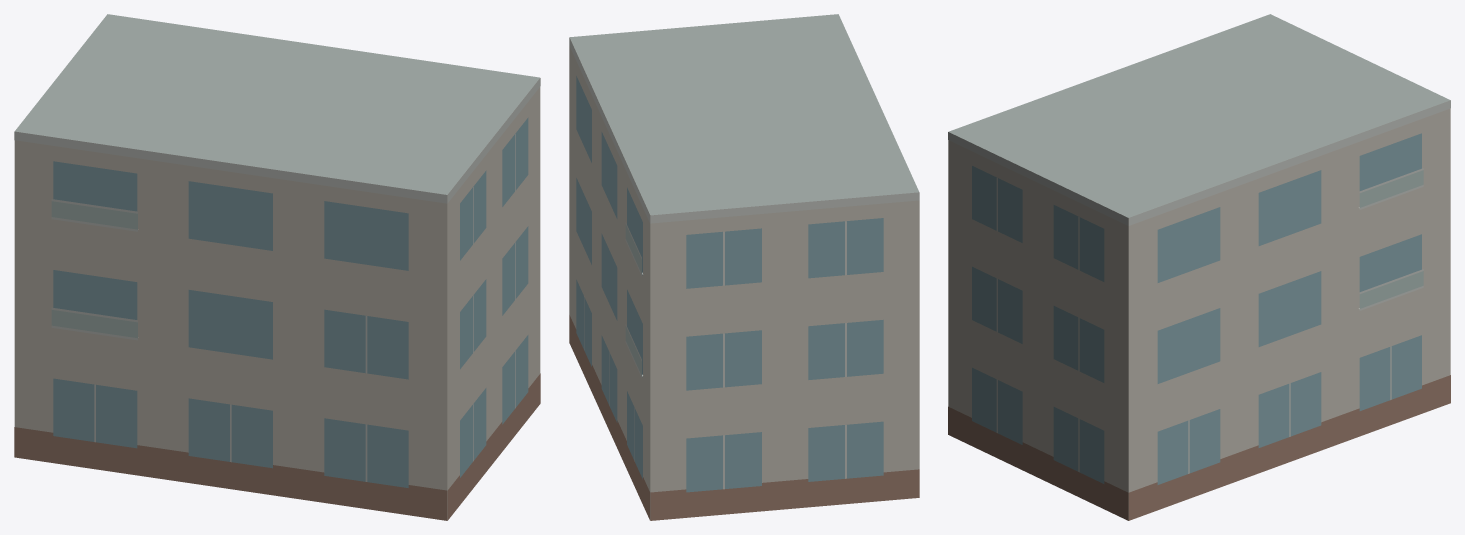
File: survey-upis-32717505.glb
3 renders of one model, left to right at view 1: azimuth 30°, elevation 25°; view 2: azimuth 150°, elevation 25°; view 3: azimuth 270°, elevation 25°, orthographic. The views are drawn at different scales.
Parts seen in each view (by area): view 1: survey-upis-32717505.tmp; view 2: survey-upis-32717505.tmp; view 3: survey-upis-32717505.tmp.
Boxes of the visible parts, x1,y1,x2,y2 form: survey-upis-32717505.tmp: (14, 14, 540, 520); survey-upis-32717505.tmp: (569, 14, 919, 520); survey-upis-32717505.tmp: (948, 14, 1450, 520).
Size of the model in its own units: 13.22 by 9.15 by 13.77.
